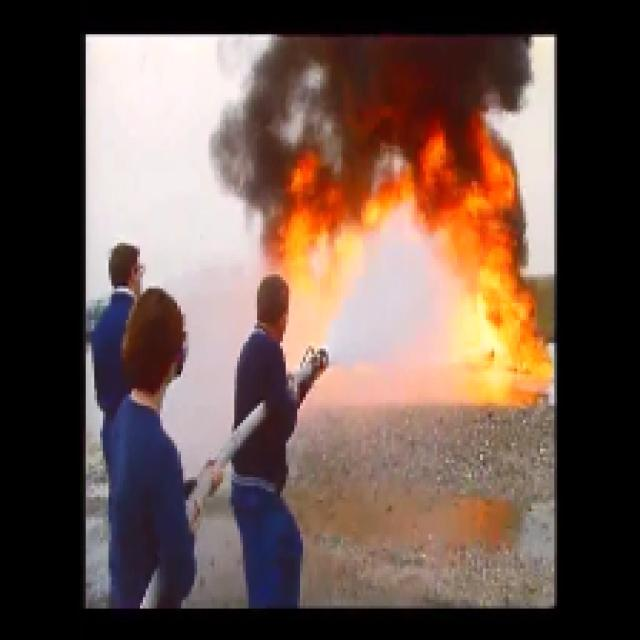fire: (260, 125, 550, 394)
smoke: (271, 37, 546, 97)
